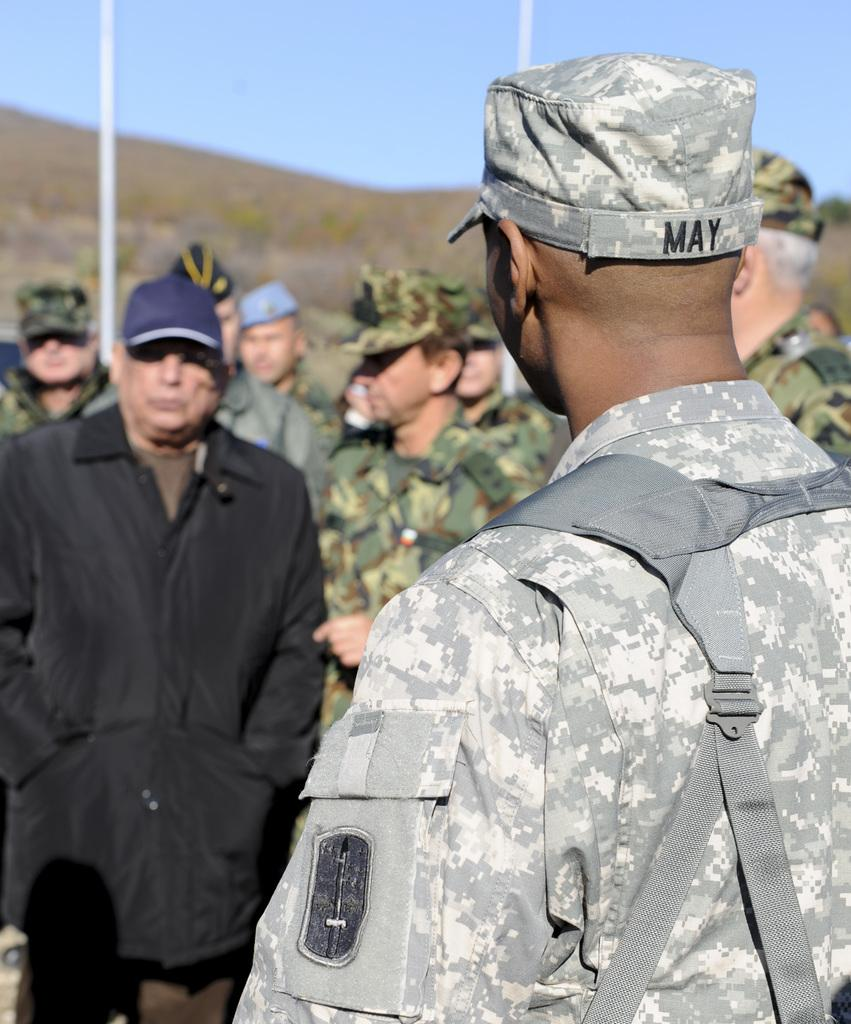Hat: (449, 49, 769, 260), (335, 258, 470, 356), (121, 277, 223, 357), (749, 136, 826, 240), (14, 280, 90, 341), (465, 286, 494, 344)
